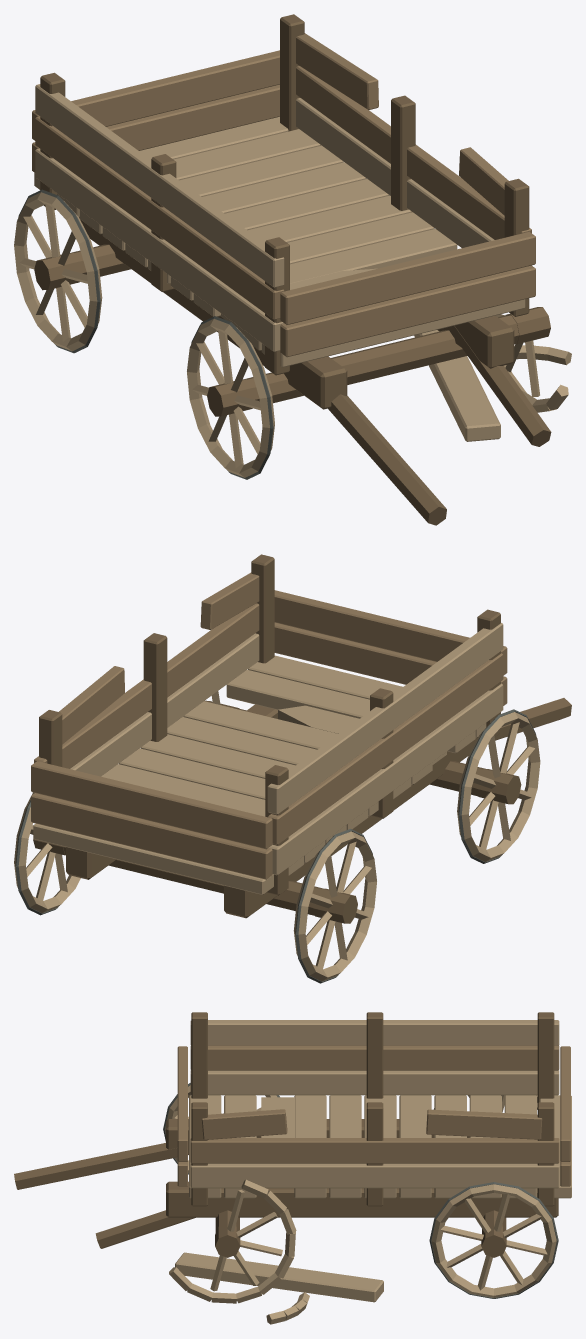
Rendered from wagon_abandoned.glb.
The picture shows the model from 3 angles, top to bottom: view 1: azimuth 30°, elevation 25°; view 2: azimuth 150°, elevation 25°; view 3: azimuth 270°, elevation 25°; orthographic projection. The views are drawn at different scales.
Visible parts, largest first — view 1: wagon_abandoned_oak_light, wagon_abandoned_oak, wagon_abandoned_oak_dark, wagon_abandoned_camp_iron; view 2: wagon_abandoned_oak_light, wagon_abandoned_oak, wagon_abandoned_oak_dark, wagon_abandoned_camp_iron; view 3: wagon_abandoned_oak_light, wagon_abandoned_oak, wagon_abandoned_oak_dark, wagon_abandoned_camp_iron.
Boxes of the visible parts, box(x1,y1,x2,y2) form: wagon_abandoned_oak_light: box(14, 84, 571, 477); wagon_abandoned_oak: box(32, 33, 535, 357); wagon_abandoned_oak_dark: box(34, 14, 551, 525); wagon_abandoned_camp_iron: box(18, 189, 389, 479); wagon_abandoned_oak_light: box(14, 623, 540, 981); wagon_abandoned_oak: box(31, 572, 507, 879); wagon_abandoned_oak_dark: box(33, 554, 571, 923); wagon_abandoned_camp_iron: box(15, 709, 536, 983); wagon_abandoned_oak_light: box(165, 1020, 571, 1324); wagon_abandoned_oak: box(177, 1045, 570, 1186); wagon_abandoned_oak_dark: box(14, 1012, 558, 1257); wagon_abandoned_camp_iron: box(163, 1083, 558, 1298).
Bounding box in the file's own units: 2.45 × 1.47 × 3.98.
